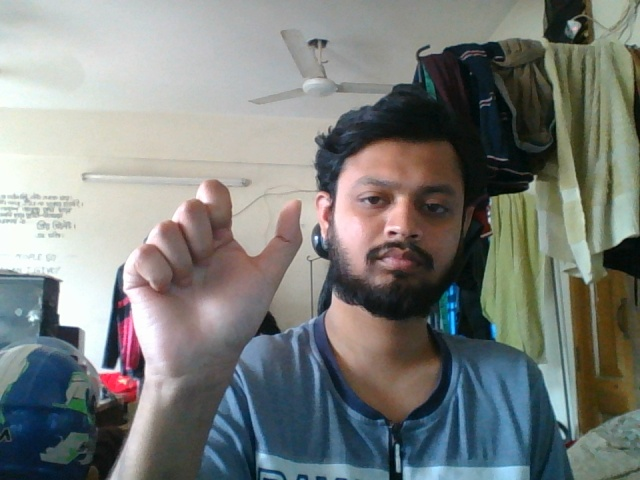dho: (103, 170, 315, 435)
